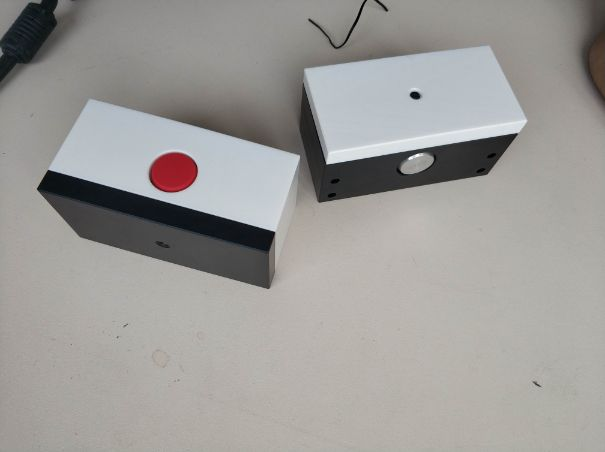black+white+red: (34, 96, 301, 292)
white+black+silver: (296, 43, 530, 204)
